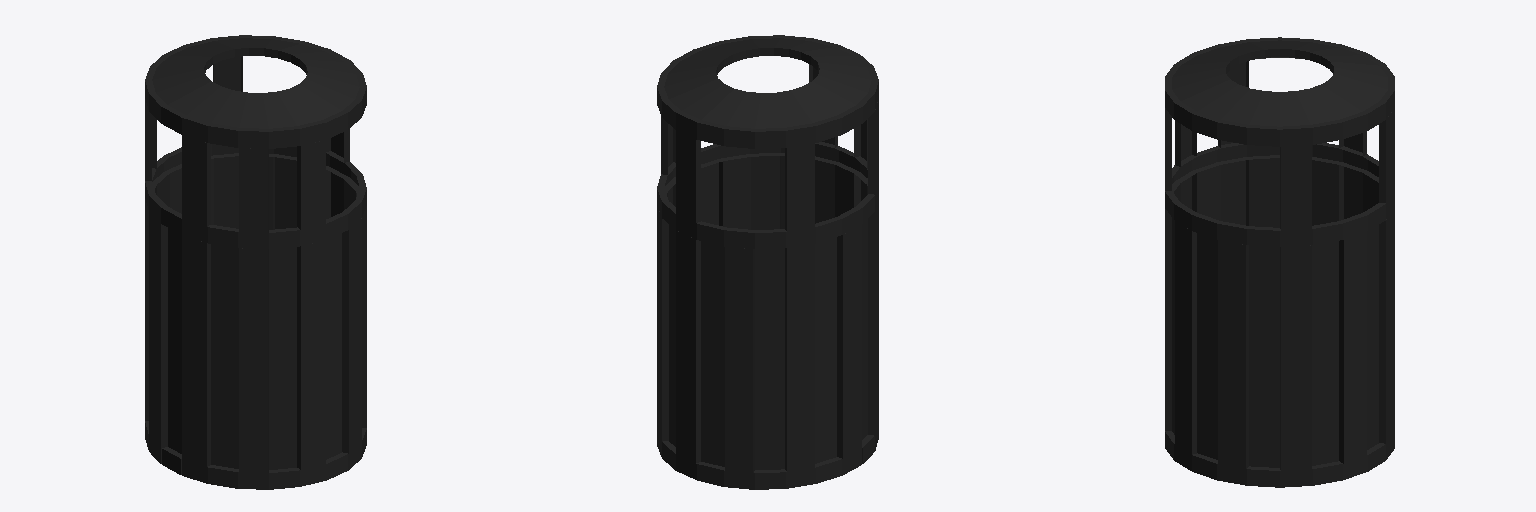
Rendered from trashcan.obj.
3 views of the same model, side by side, from view 1: azimuth 30°, elevation 25°; view 2: azimuth 150°, elevation 25°; view 3: azimuth 270°, elevation 25° (orthographic).
Visible parts, largest first — view 1: pCylinder1; view 2: pCylinder1; view 3: pCylinder1.
Boxes of the visible parts, x1=… form: pCylinder1: x1=145, y1=35, x2=366, y2=489; pCylinder1: x1=657, y1=35, x2=878, y2=489; pCylinder1: x1=1165, y1=37, x2=1394, y2=487.
Size of the model in its own units: 2.5 by 4.69 by 2.64.